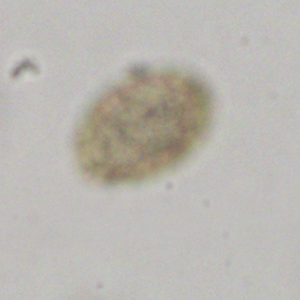Fasciola_hepatica_egg: (72, 63, 223, 186)
